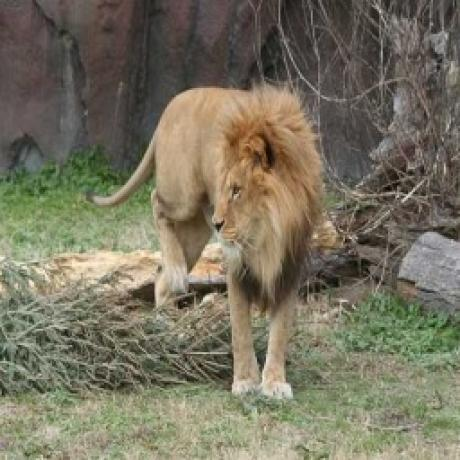Lion: (88, 74, 325, 411)
